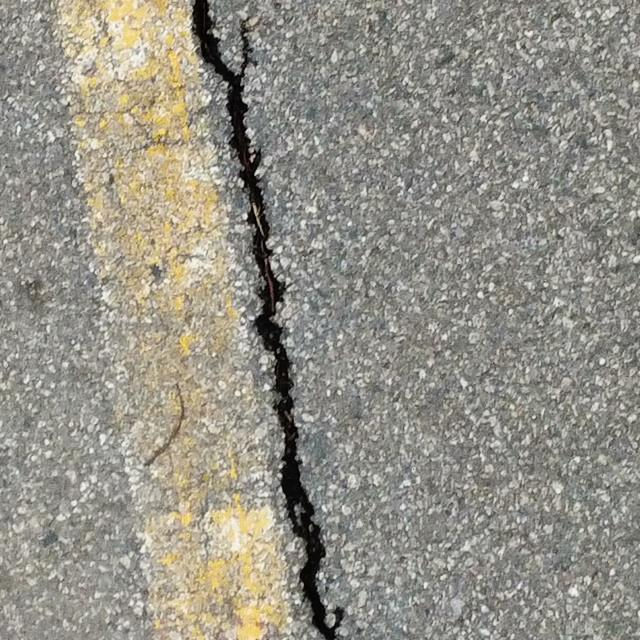LongitudinalCrack: (189, 1, 348, 640)
